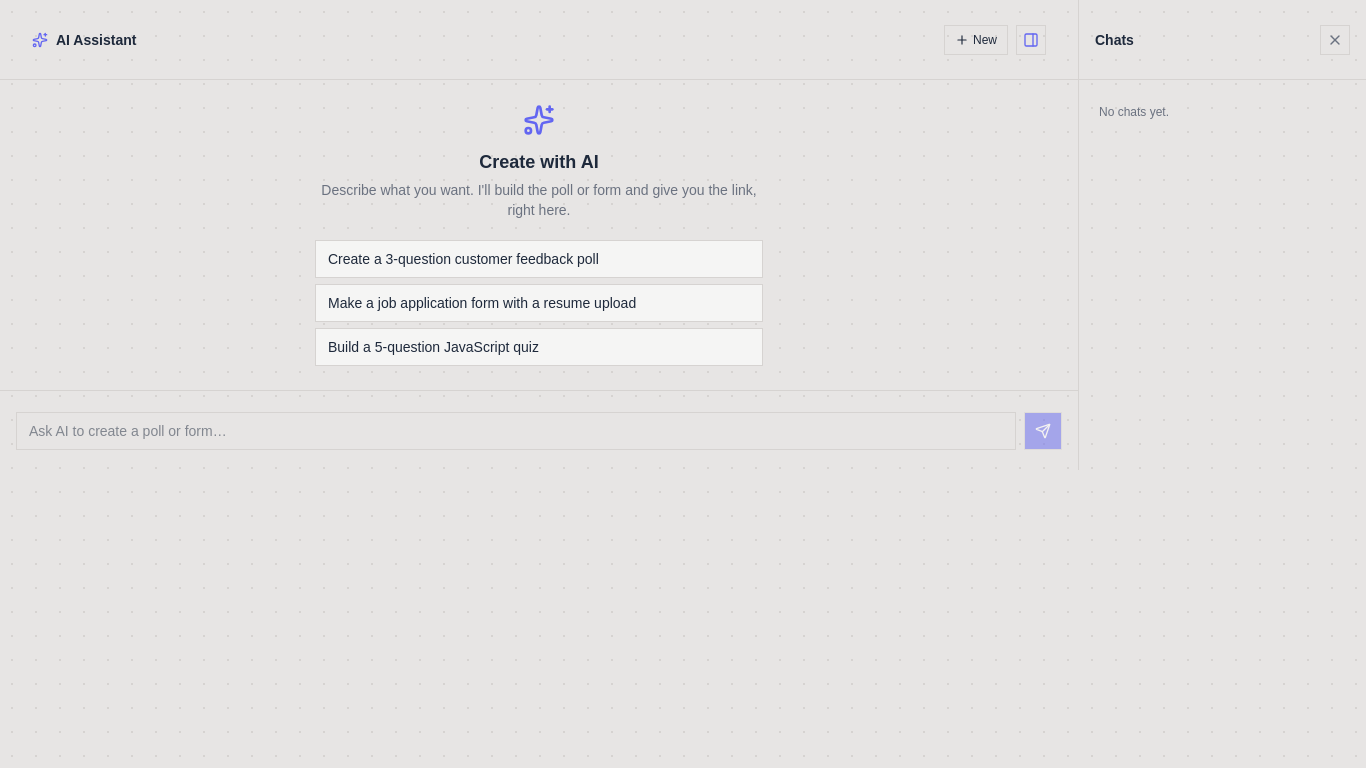
ChatPage (dashboard assistant) › can hide the history sidebar
Check: the text "Chats" is shown, box [1095,30,1134,50]
Click the button named "Close history": (1335, 40) [1320,24,1350,54]
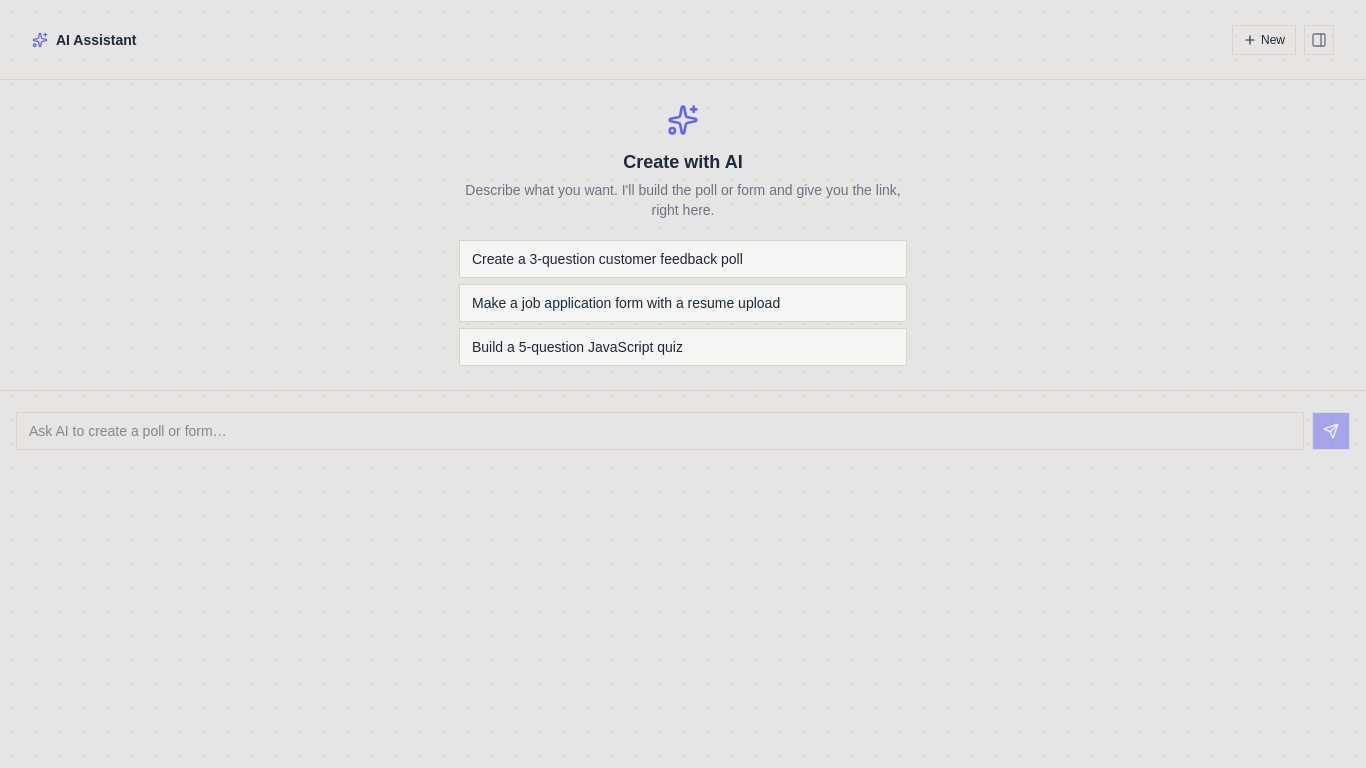
Check: the text "Chats" is gone
